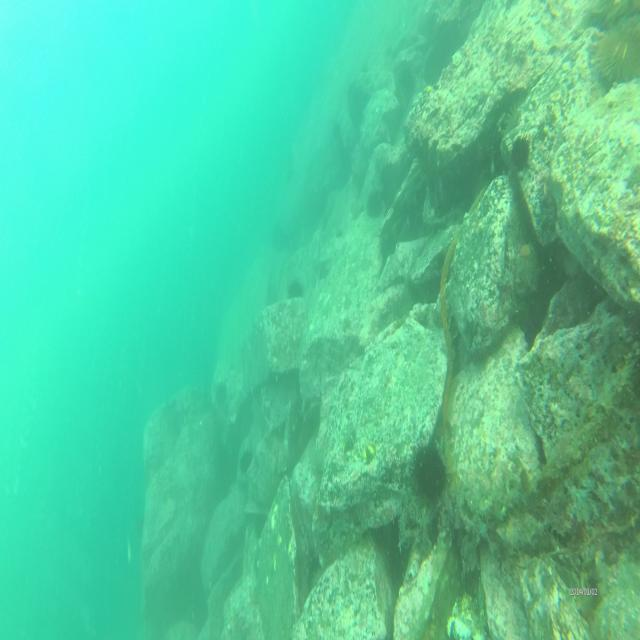echinus: (589, 19, 640, 94), (409, 436, 448, 499), (510, 127, 532, 175), (237, 446, 257, 478), (286, 273, 304, 305), (212, 380, 230, 411), (365, 187, 384, 216)
